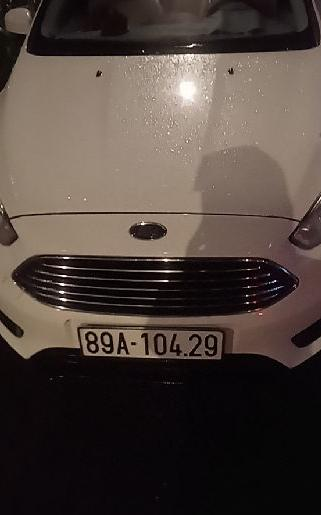Plate-iWeP: (82, 328, 227, 361)
